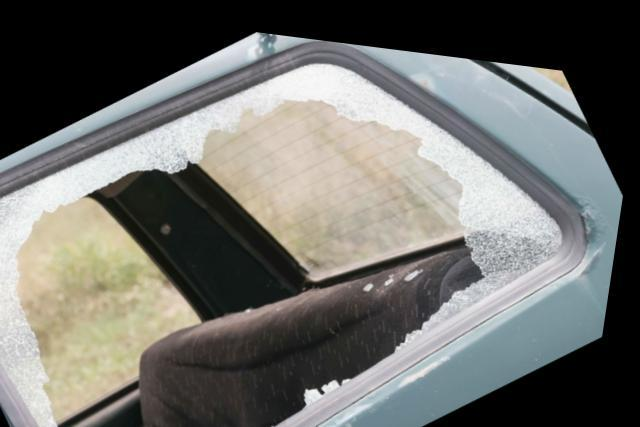glass shatter: (0, 53, 569, 427)
scratch: (312, 337, 475, 427)
